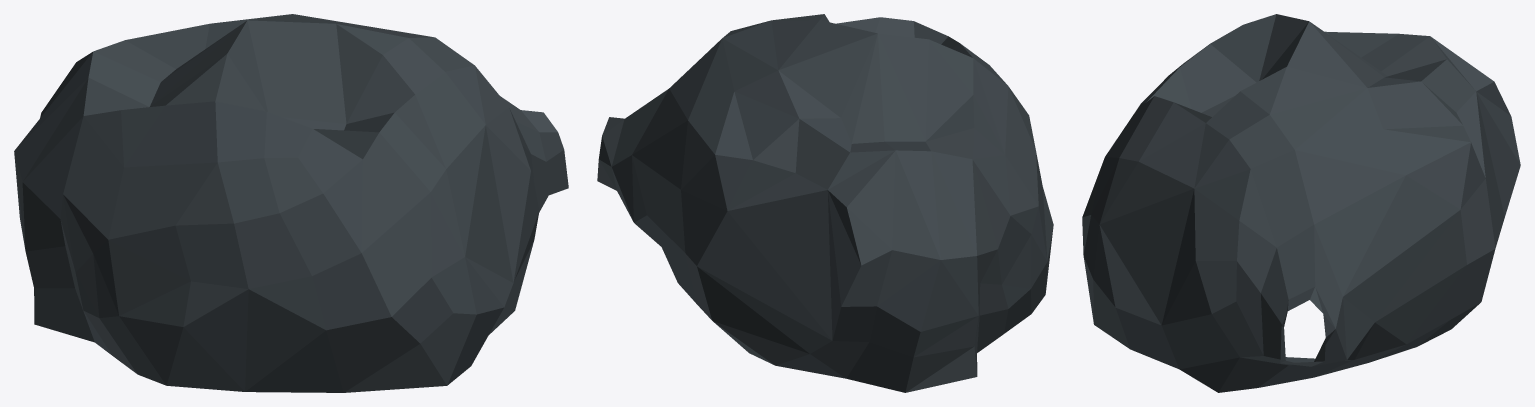
Rendered from Dome-1exit-08.fbx.
3 renders of one model, left to right at view 1: azimuth 30°, elevation 25°; view 2: azimuth 150°, elevation 25°; view 3: azimuth 270°, elevation 25°, orthographic. The views are drawn at different scales.
Visible parts, largest first — view 1: Dome-1exit-08; view 2: Dome-1exit-08; view 3: Dome-1exit-08.
Boxes of the visible parts, x1,y1,x2,y2 form: Dome-1exit-08: (14, 14, 568, 392); Dome-1exit-08: (597, 14, 1053, 392); Dome-1exit-08: (1082, 14, 1520, 392).
Bounding box in the file's own units: 1746 × 1958 × 1239.
